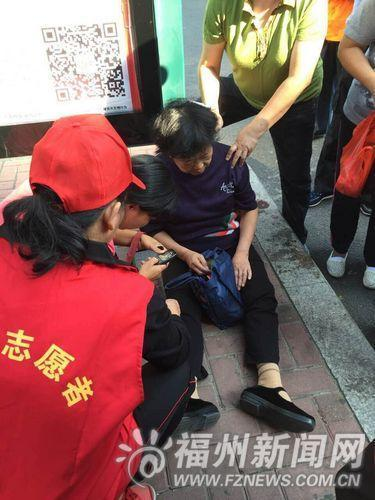Fall-Detected: (132, 93, 320, 450)
